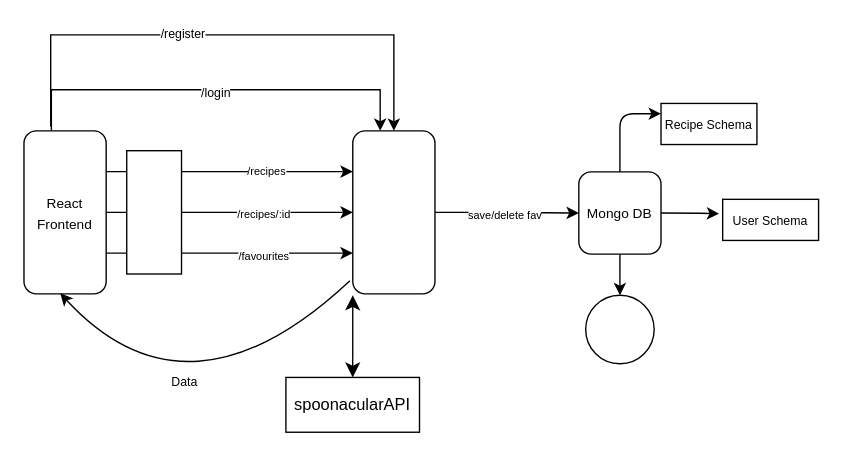
Image size: 843x456. Some labels were removed from this diagram. Each missing label, with the centre of its shape:
"fav recipe are stored" belongs at point (619, 329).
"Node BE" belongs at point (393, 211).
"Protected Route" belongs at point (153, 211).
